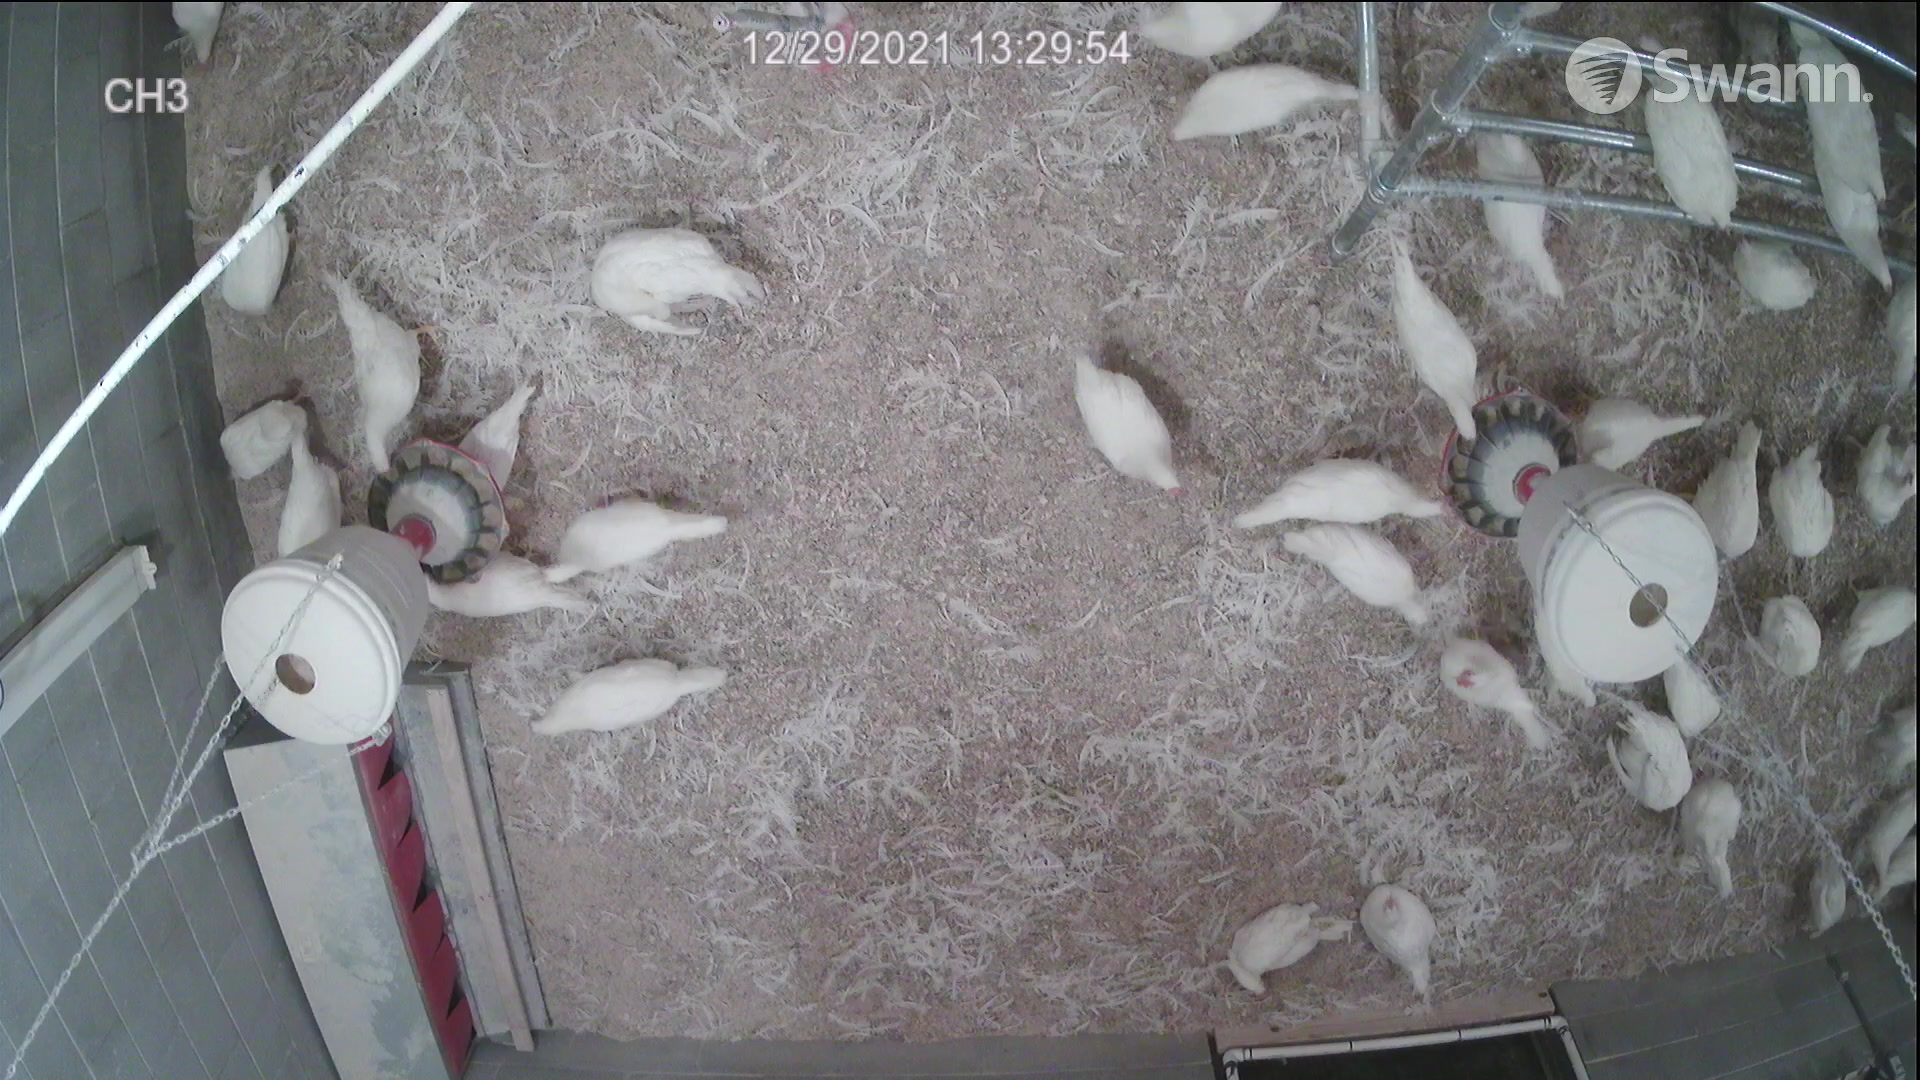Dust Bathing: (1208, 891, 1365, 1005)
Feeding: (1389, 251, 1505, 455), (328, 273, 440, 483), (1251, 448, 1462, 530)
Foraging: (526, 651, 742, 737)
Perching: (1636, 33, 1738, 237), (1782, 145, 1903, 301), (1792, 26, 1894, 207)
Preening: (568, 218, 786, 342), (1601, 702, 1697, 815), (1760, 429, 1833, 556), (1850, 430, 1920, 541), (1754, 596, 1832, 687)
